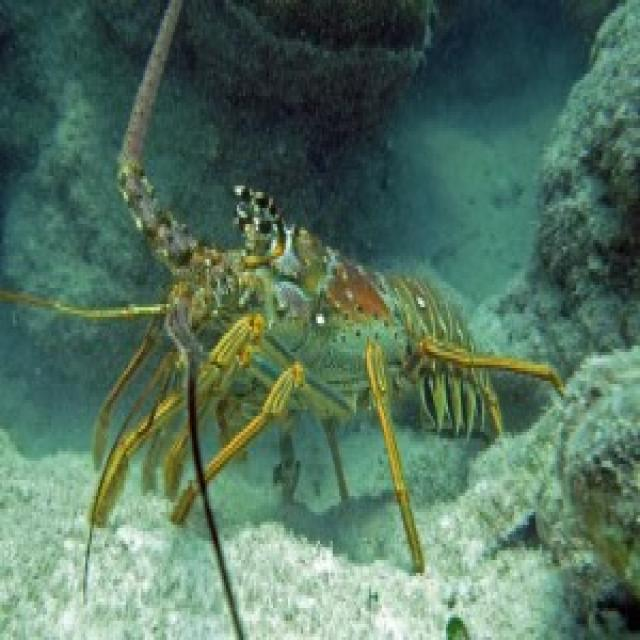lobsters: (79, 46, 631, 630)
